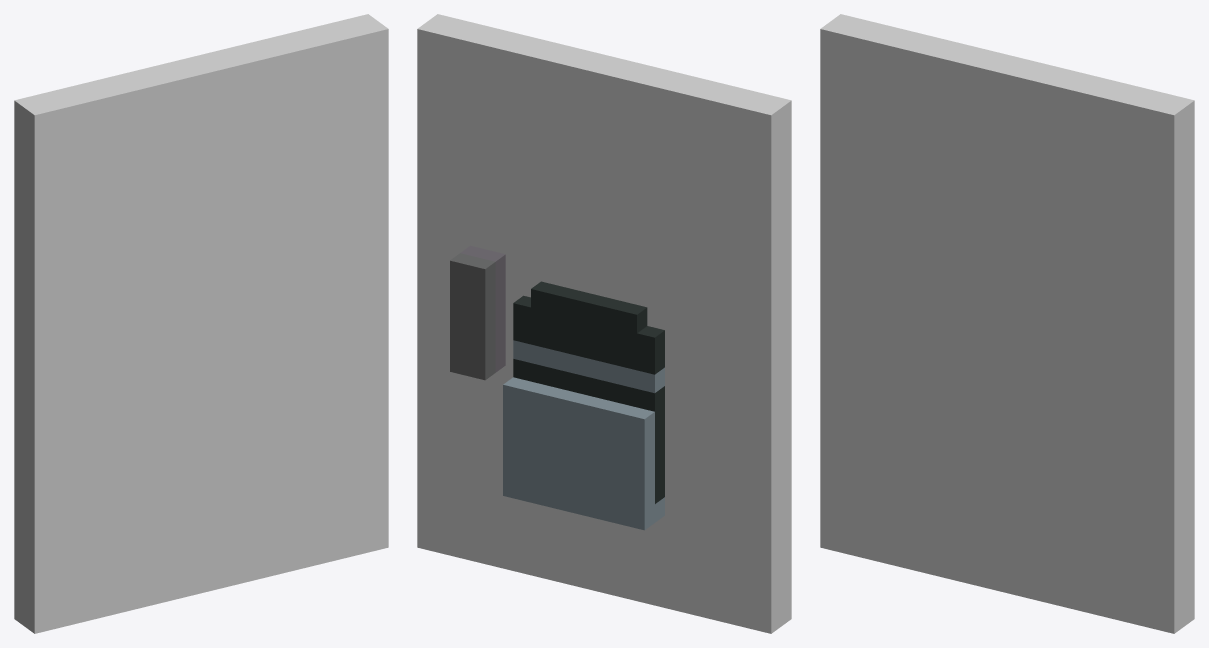
The model's file is wall_with_chair_and_phone.gltf.
3 views of the same model, side by side, from view 1: azimuth 30°, elevation 25°; view 2: azimuth 150°, elevation 25°; view 3: azimuth 330°, elevation 25° (orthographic).
Visible parts, largest first — view 1: Base; view 2: Base, UnfoldableChair, Phone; view 3: Base.
Part boxes in pixels (<box>): Base: <box>14,14,388,633</box>; Base: <box>417,14,791,633</box>; UnfoldableChair: <box>503,377,654,530</box>; Phone: <box>450,253,495,380</box>; Base: <box>820,14,1194,633</box>.
Bounding box in the file's own units: 20 × 28 × 4.
